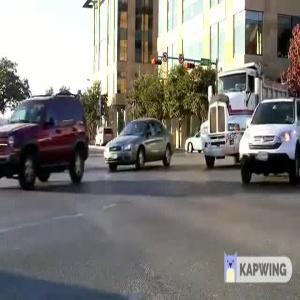car: (101, 104, 182, 183)
semi: (199, 59, 263, 167)
suv: (1, 91, 92, 189), (236, 90, 300, 196)
